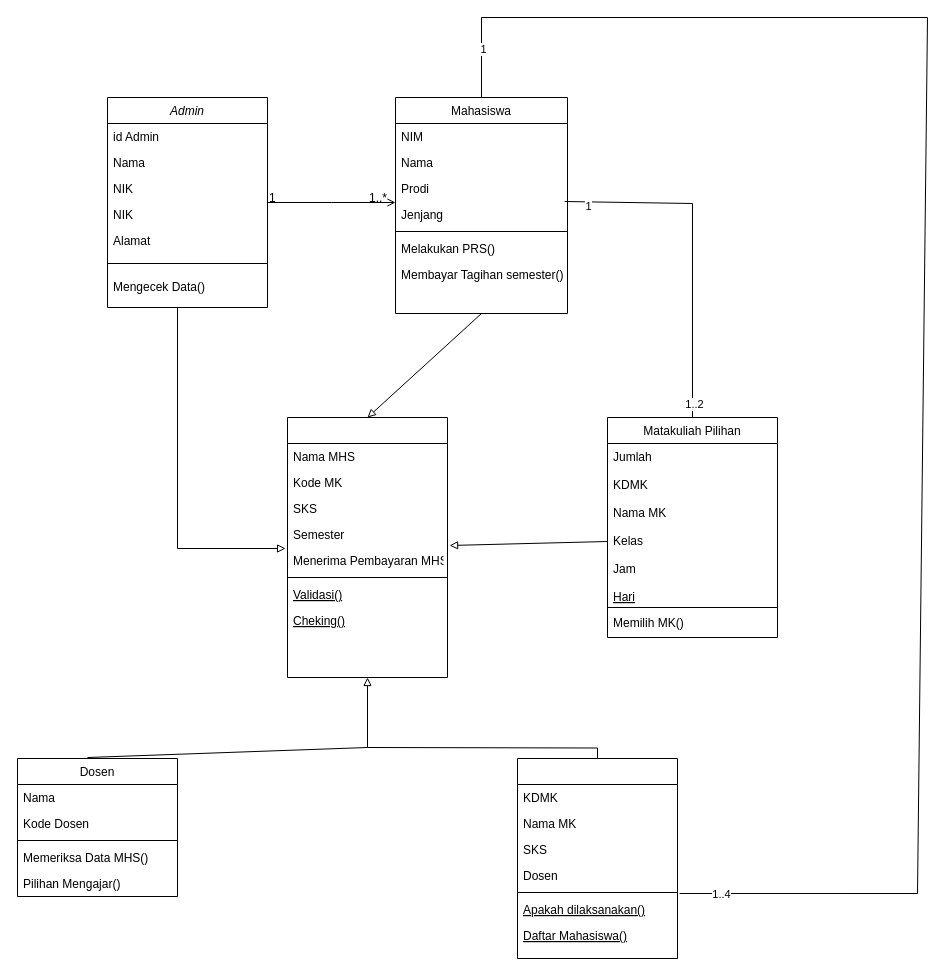
The diagram is 946 pixels wide and 976 high, and some of its shapes have lost their labels. The box of each missing label's shape, as (x1, y1, x2, y2) in pixels:
Matakuliah: (516, 758, 678, 958)
System: (286, 416, 448, 678)
